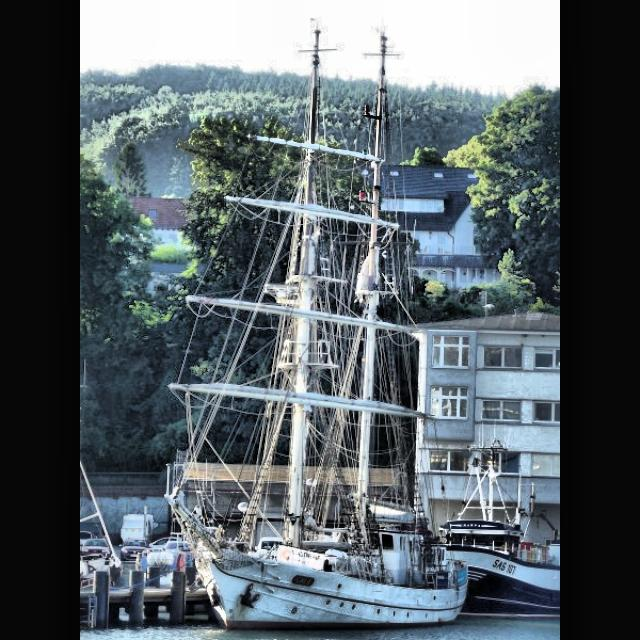sailing_vessel: (162, 26, 470, 632)
